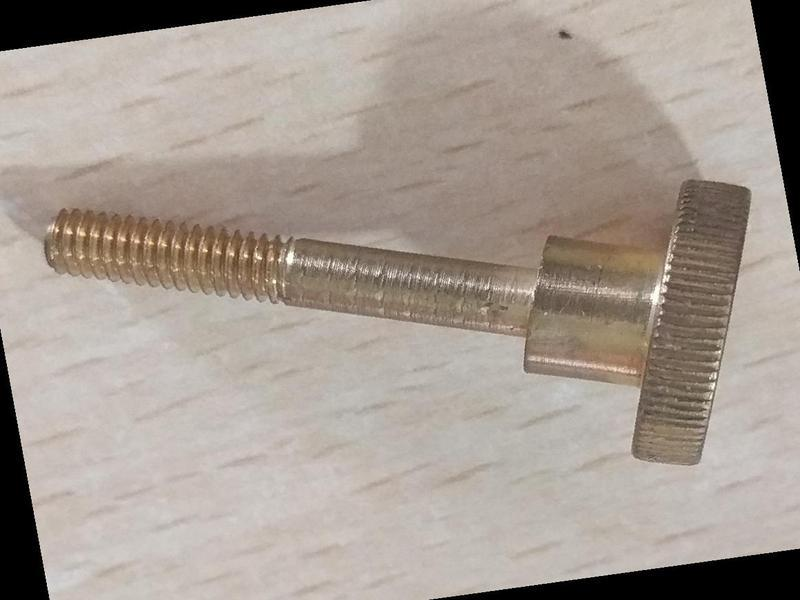bigscrew: (32, 87, 760, 518)
